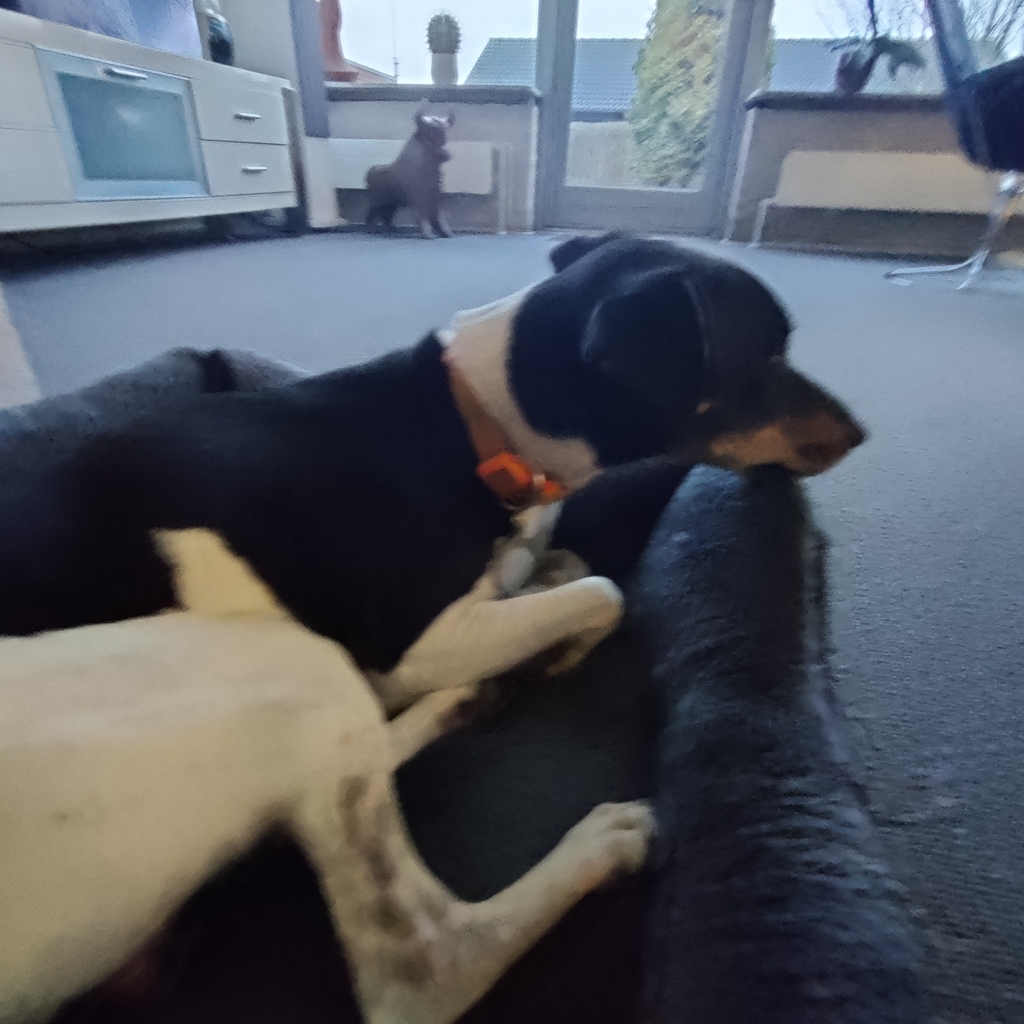Cattle: (352, 95, 466, 247)
Dog: (0, 219, 882, 1024)
Humanoid: (310, 0, 363, 75)
